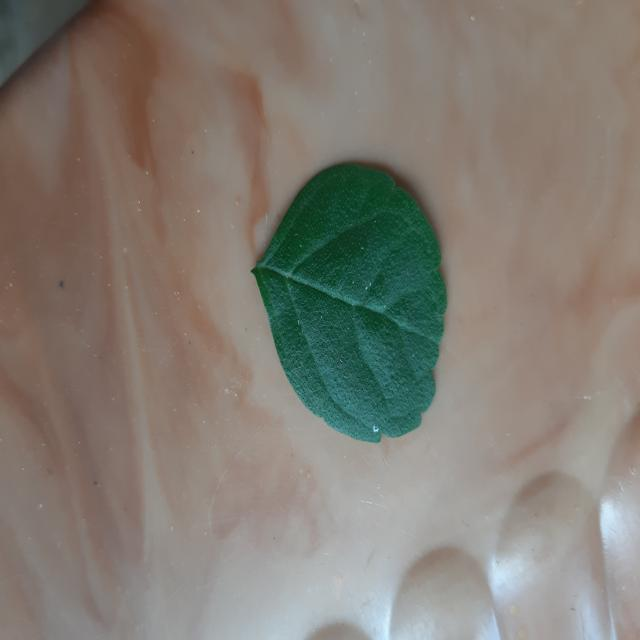tecoma: (252, 164, 446, 442)
